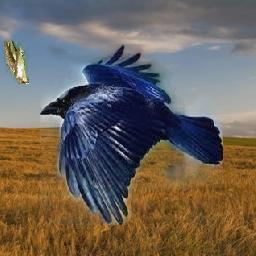Crow: (41, 45, 224, 226)
Cuckoo: (5, 42, 30, 85)
